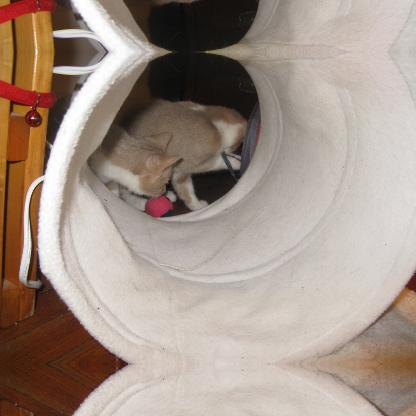Cat: (86, 99, 247, 209)
